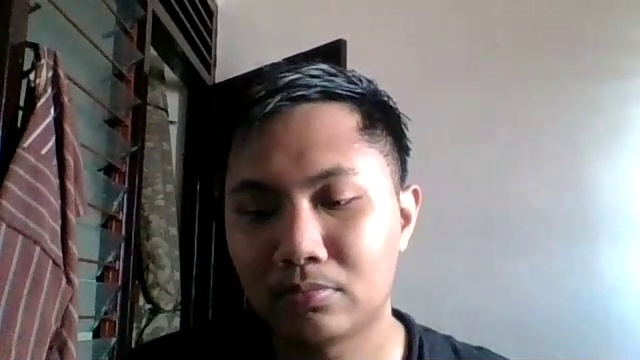Distracted: (222, 98, 426, 341)
